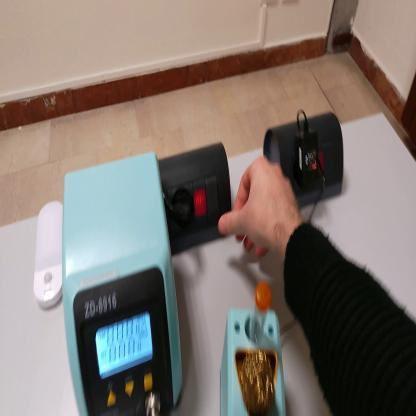hand: (219, 156, 300, 258)
socket: (159, 146, 233, 262), (265, 109, 345, 211)
welder base: (219, 281, 289, 415)
welder station: (62, 155, 185, 416)
